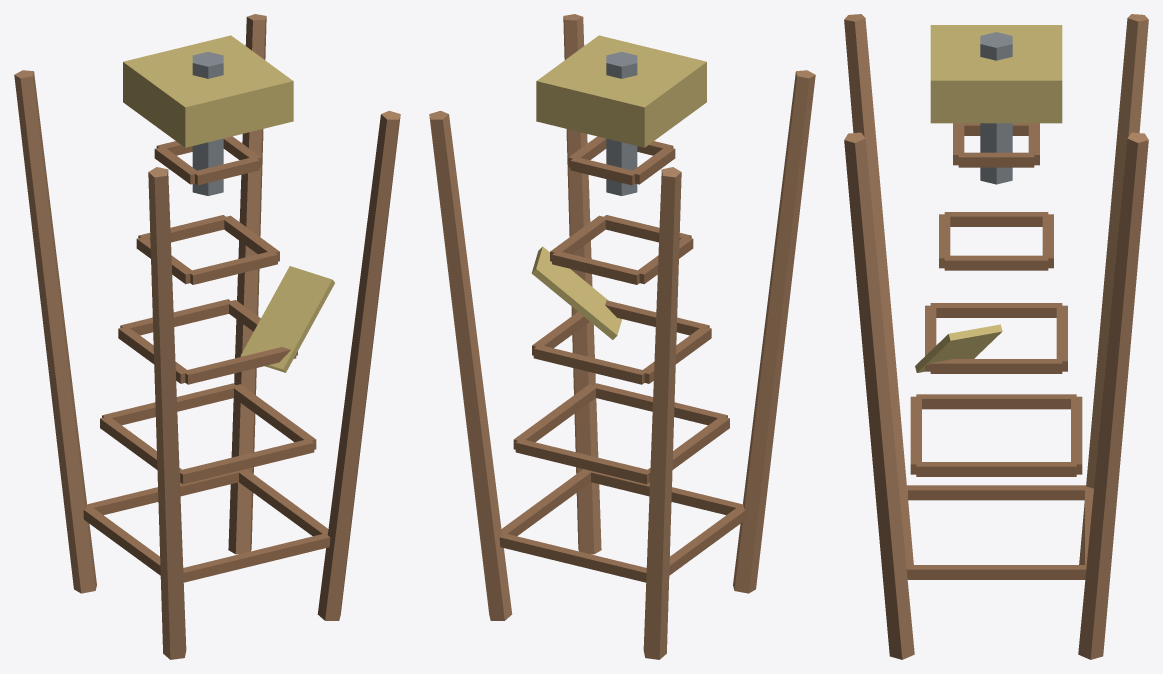
Rendered from valak_torre_1.glb.
The picture shows the model from 3 angles, left to right: view 1: azimuth 30°, elevation 25°; view 2: azimuth 150°, elevation 25°; view 3: azimuth 270°, elevation 25°; orthographic projection. The views are drawn at different scales.
Parts seen in each view (by area): view 1: torre; view 2: torre; view 3: torre.
Part boxes in pixels (left/top/right/bottom): torre: left=14, top=14, right=400, bottom=659; torre: left=429, top=14, right=815, bottom=659; torre: left=844, top=14, right=1148, bottom=659.
Bounding box in the file's own units: 1.61 × 3.37 × 1.62.
